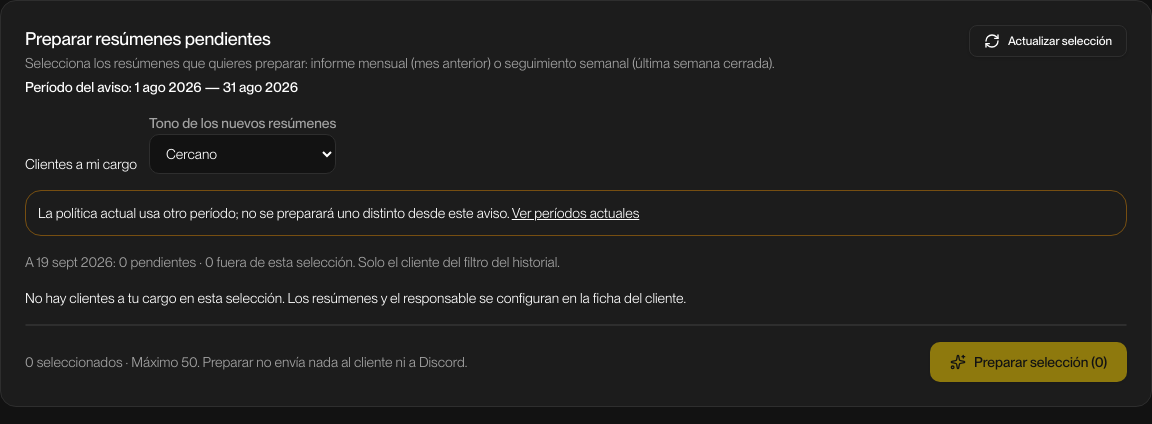
Test: does not prepare a newer policy period from an old incident link and recovers current periods
Expected: the message shows "La política actual usa otro período", [38,205,512,221]
Click the link "Ver períodos actuales".
click(576, 213)  # box [512,205,639,221]
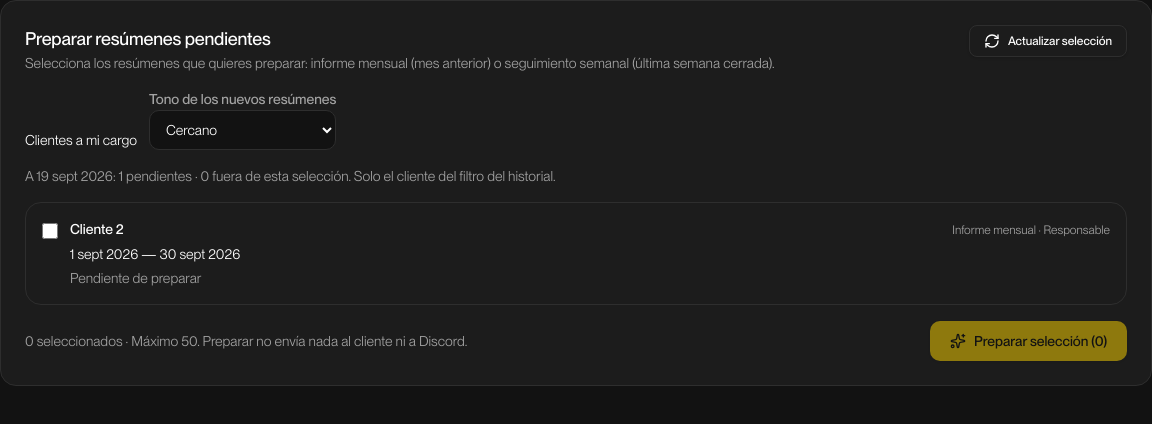
Expected: the checkbox named "Preparar Cliente 2 · Informe mensual" is shown, [42,223,58,239]
Expected: the text "Período del aviso:" is gone
